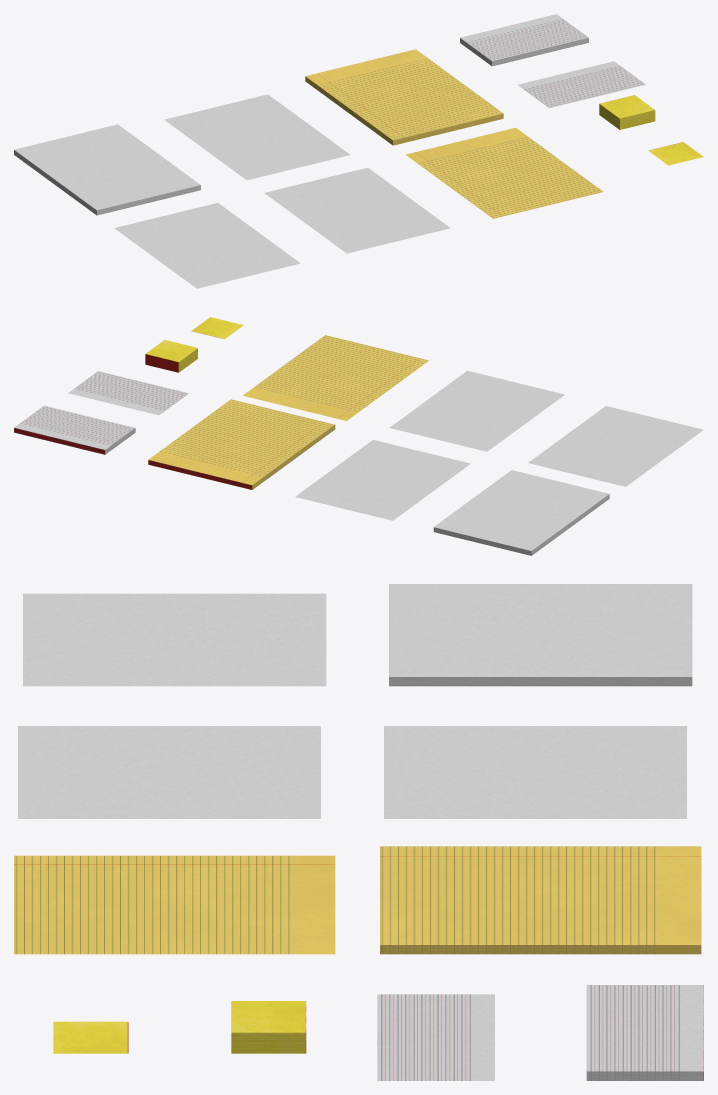
File: office_notepads.glb
3 views of the same model, one above another, from view 1: azimuth 30°, elevation 25°; view 2: azimuth 150°, elevation 25°; view 3: azimuth 270°, elevation 25° (orthographic). The views are drawn at different scales.
Parts seen in each view (by area): view 1: office_notepads_yellow_sheet; view 2: office_notepads_yellow_sheet; view 3: office_notepads_yellow_sheet.
Boxes of the visible parts, x1,y1,x2,y2 form: office_notepads_yellow_sheet: (14, 14, 703, 288); office_notepads_yellow_sheet: (14, 317, 703, 555); office_notepads_yellow_sheet: (14, 584, 703, 1080).
Bounding box in the file's own units: 1.1 × 0.0219 × 0.6598.
Materials: 1 (1 with a texture image).
